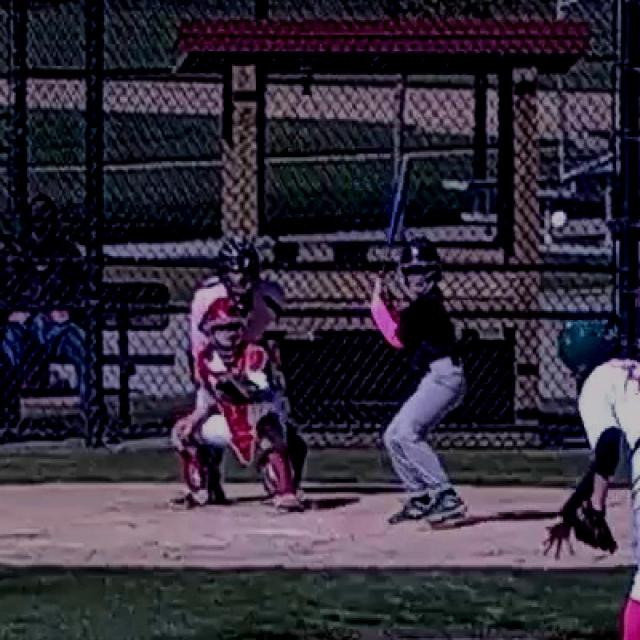baseball: (552, 211, 566, 227)
